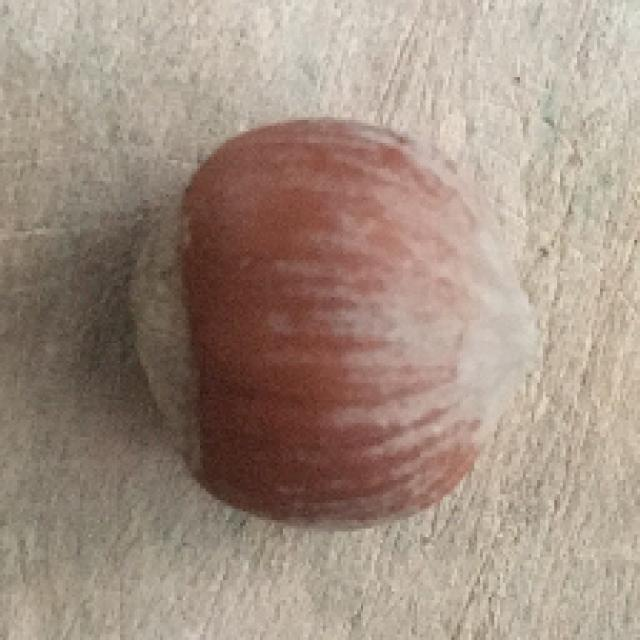qualityHazelnut: (126, 113, 546, 538)
